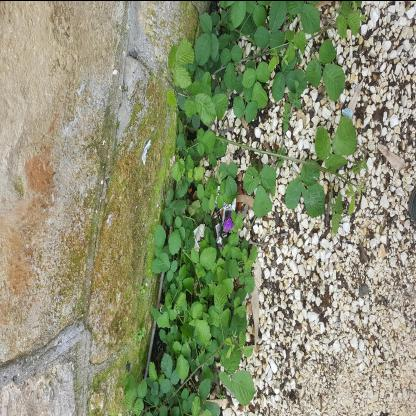plastik: (185, 180, 249, 204), (223, 210, 253, 226)
